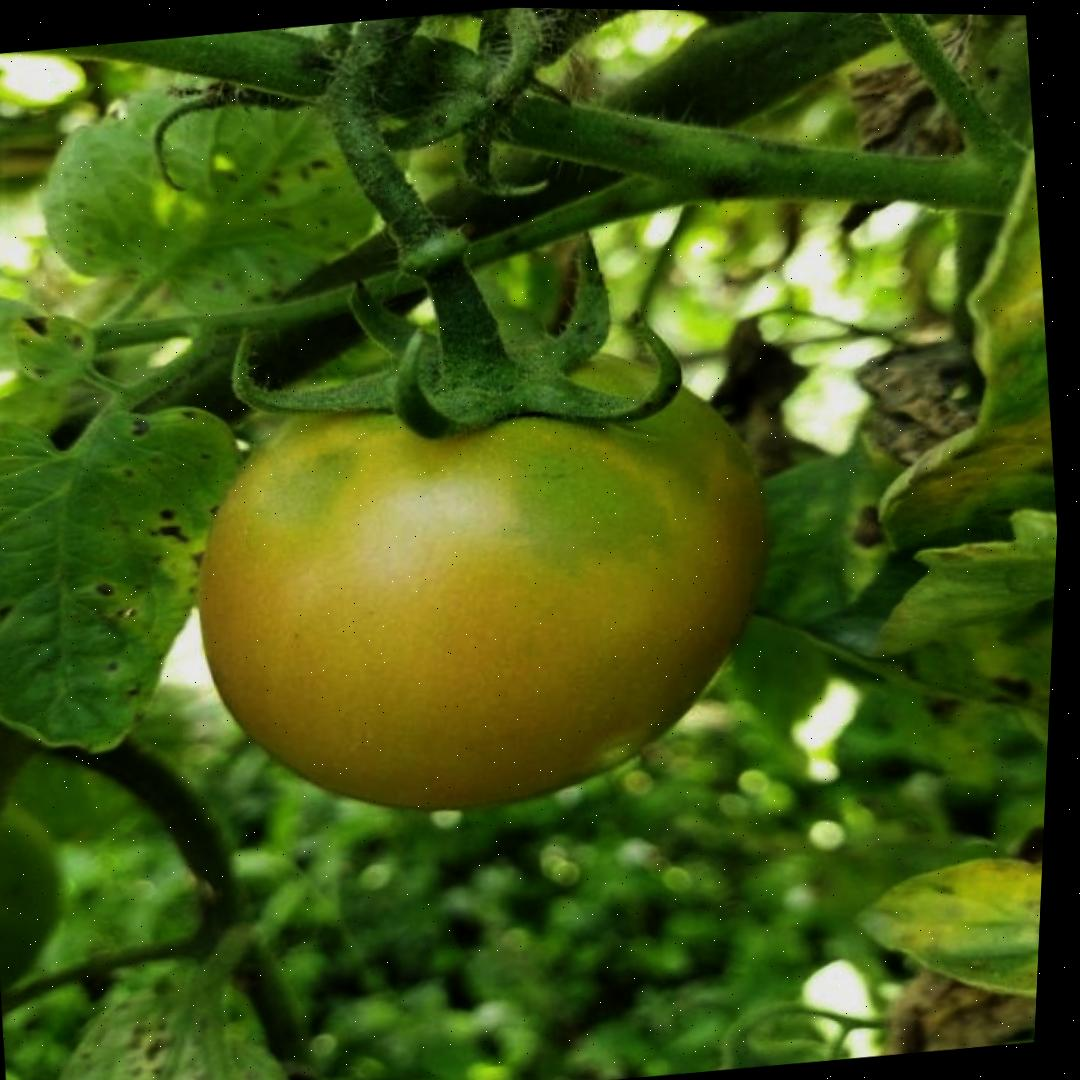setengah_matang: (160, 310, 810, 845)
